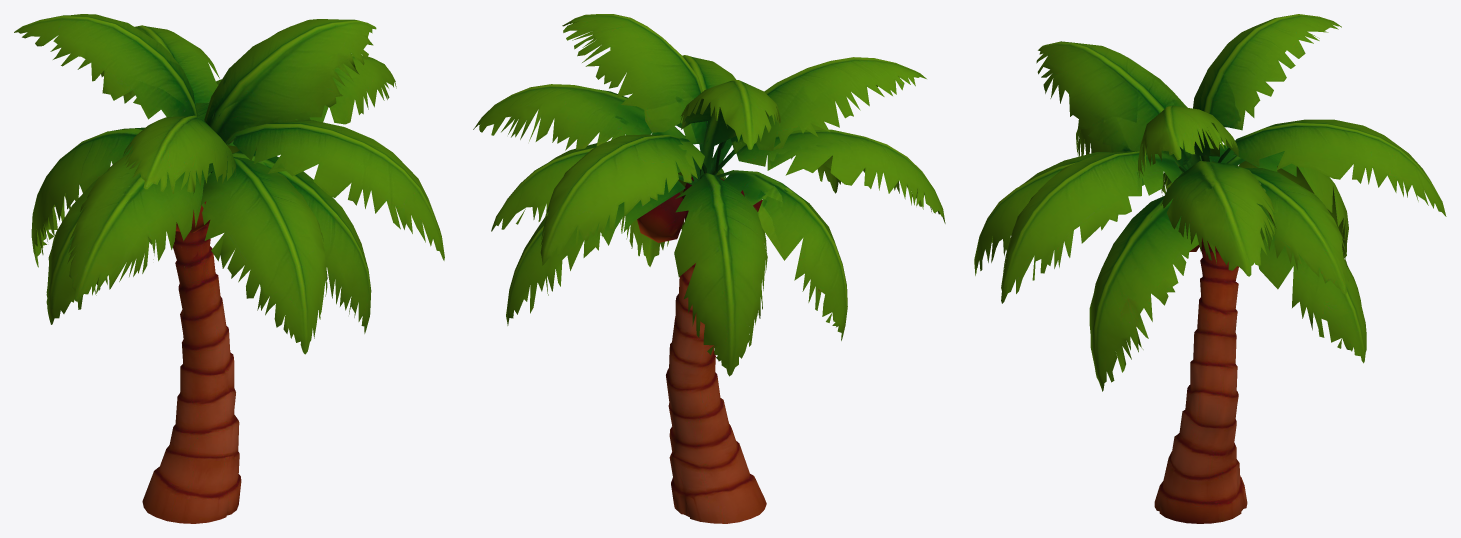
The model's file is selected.fbx.
3 renders of one model, left to right at view 1: azimuth 30°, elevation 25°; view 2: azimuth 150°, elevation 25°; view 3: azimuth 270°, elevation 25°, orthographic. The views are drawn at different scales.
Parts seen in each view (by area): view 1: tripo_node_f62e1311-50c6-4570-905c-4d1a0cf0cdcf; view 2: tripo_node_f62e1311-50c6-4570-905c-4d1a0cf0cdcf; view 3: tripo_node_f62e1311-50c6-4570-905c-4d1a0cf0cdcf.
Boxes of the visible parts, box(x1,y1,x2,y2) form: tripo_node_f62e1311-50c6-4570-905c-4d1a0cf0cdcf: box(14, 14, 444, 523); tripo_node_f62e1311-50c6-4570-905c-4d1a0cf0cdcf: box(473, 14, 945, 523); tripo_node_f62e1311-50c6-4570-905c-4d1a0cf0cdcf: box(974, 14, 1446, 523).
Size of the model in its own units: 0.8926 by 0.998 by 0.9355.
Materials: 1 (1 with a texture image).
